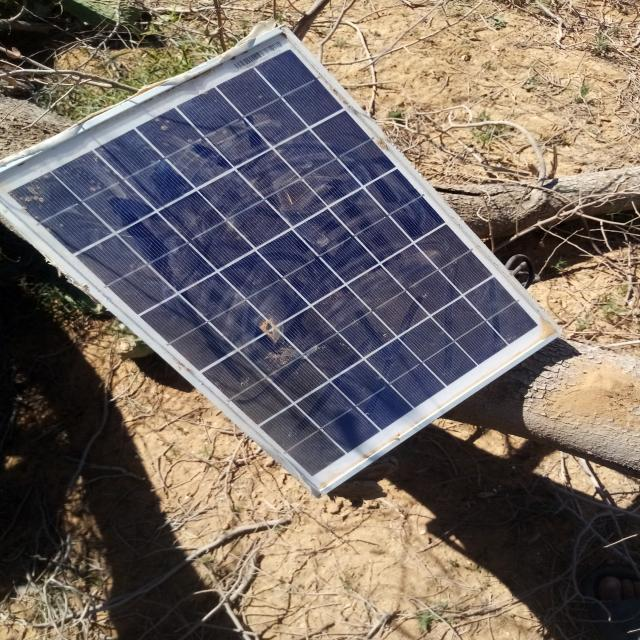faulty: (0, 28, 566, 492)
